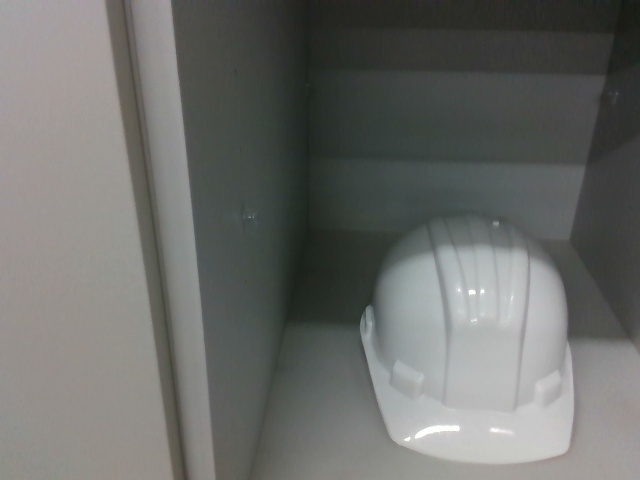helmet: (358, 212, 581, 463)
